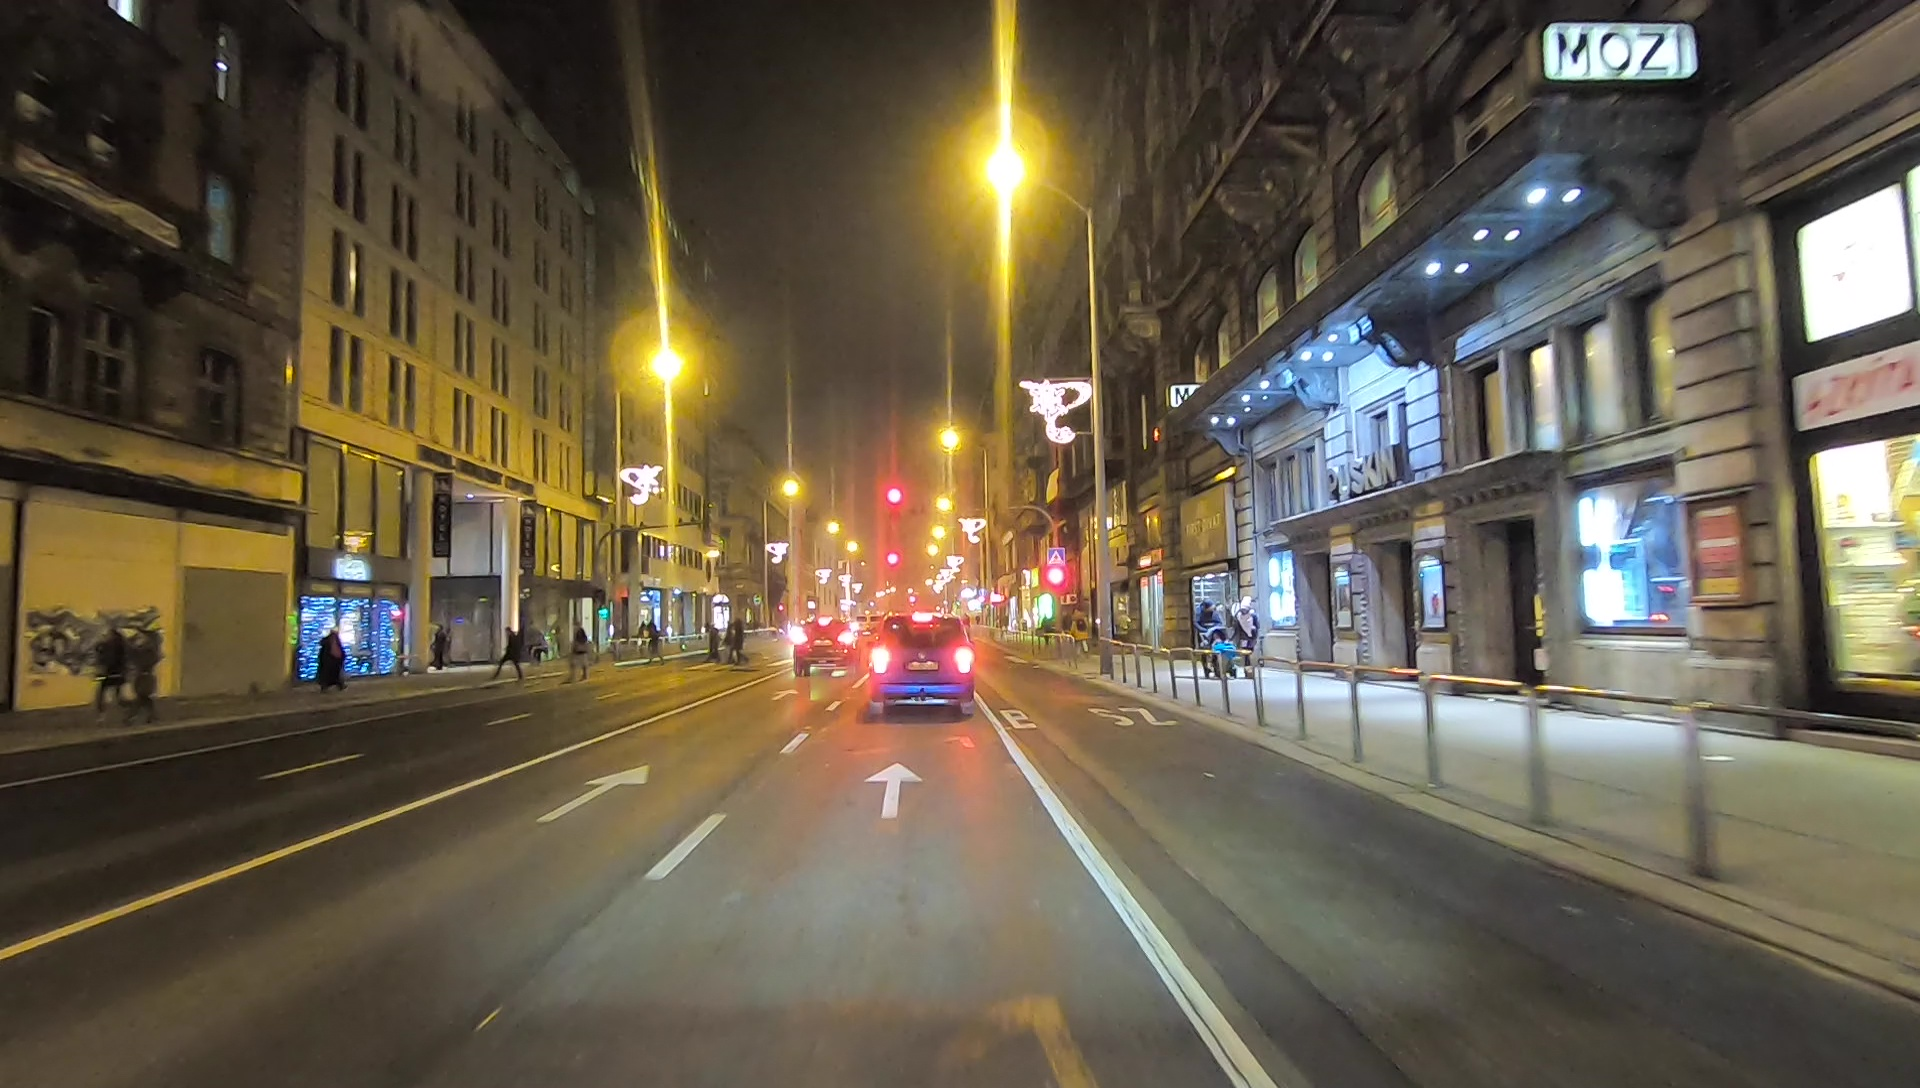person: (89, 616, 128, 731), (128, 622, 162, 726), (1190, 597, 1229, 675), (1231, 593, 1260, 682), (318, 626, 346, 692), (564, 622, 592, 684), (494, 626, 523, 682), (730, 615, 750, 669), (1070, 609, 1090, 660), (645, 622, 665, 662), (429, 623, 446, 667), (704, 620, 720, 666), (723, 618, 734, 666)
